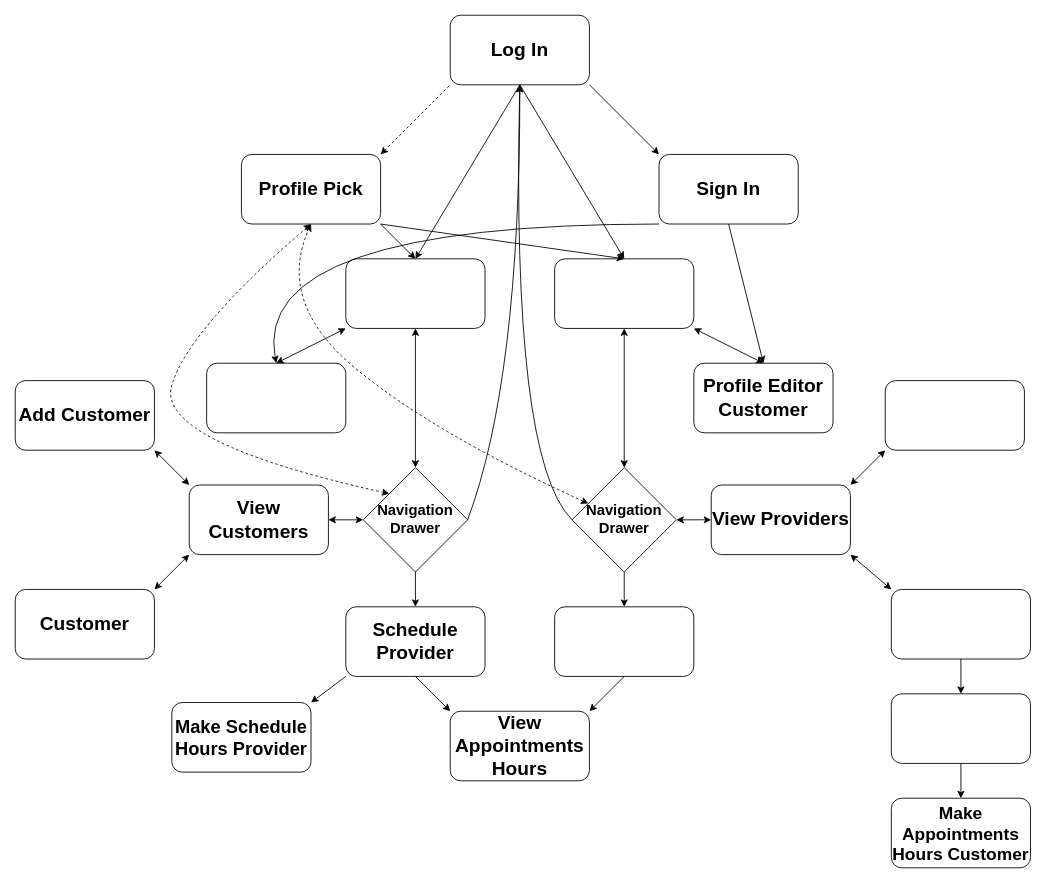
This 1046x883 diagram has some shape labels left out. The centre of each missing label's shape, as x and y in pixels:
Add Providers: pixel 954 415
Make Appointments Dates Customer: pixel 960 728
Profile Customer: pixel 624 293
Profile Editor Provider: pixel 276 397
Profile Provider: pixel 415 293
Provider: pixel 960 624
View Appointments Dates Customer: pixel 624 641
